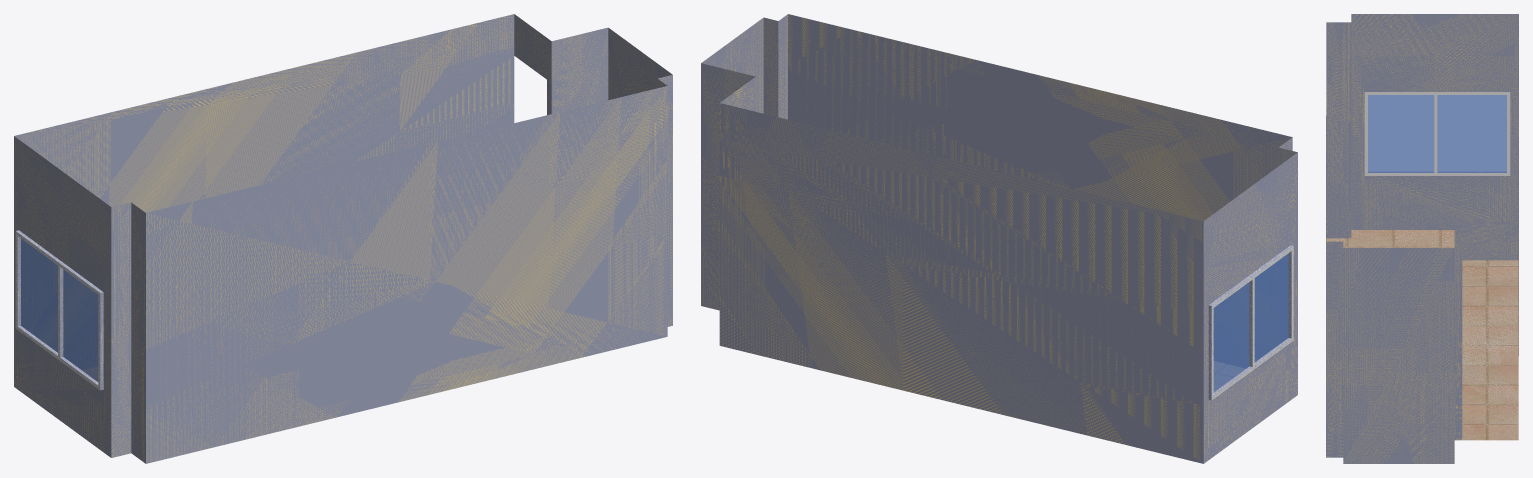
Rendered from DES046.obj.
3 renders of one model, left to right at view 1: azimuth 30°, elevation 25°; view 2: azimuth 150°, elevation 25°; view 3: azimuth 270°, elevation 25°, orthographic. The views are drawn at different scales.
Visible parts, largest first — view 1: Mesh6 DES046 Model, Mesh1 ventana2_1 DES046 Model; view 2: Mesh6 DES046 Model, Mesh1 ventana2_1 DES046 Model; view 3: Mesh6 DES046 Model, Mesh1 ventana2_1 DES046 Model.
Boxes of the visible parts, <box> form: Mesh6 DES046 Model: <box>14,14,672,463</box>; Mesh1 ventana2_1 DES046 Model: <box>15,230,103,390</box>; Mesh6 DES046 Model: <box>701,14,1297,463</box>; Mesh1 ventana2_1 DES046 Model: <box>1208,245,1293,400</box>; Mesh6 DES046 Model: <box>1326,14,1518,463</box>; Mesh1 ventana2_1 DES046 Model: <box>1364,92,1510,175</box>.
Bounding box in the file's own units: 8.41 × 3.6 × 2.91.
Materials: 8 (2 with a texture image).
